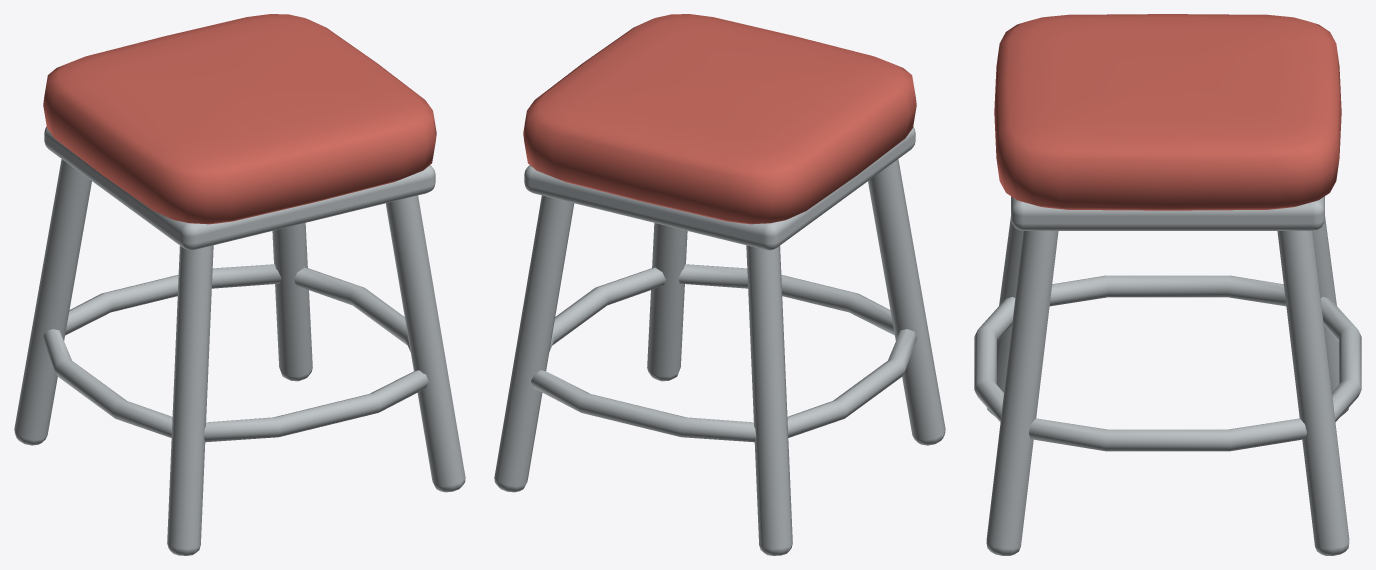
The model's file is cushion_stool.glb.
3 views of the same model, side by side, from view 1: azimuth 30°, elevation 25°; view 2: azimuth 150°, elevation 25°; view 3: azimuth 270°, elevation 25° (orthographic). The views are drawn at different scales.
Visible parts, largest first — view 1: cushion_stool_mesh; view 2: cushion_stool_mesh; view 3: cushion_stool_mesh.
Boxes of the visible parts, left/top/right/bottom form: cushion_stool_mesh: left=14, top=14, right=465, bottom=555; cushion_stool_mesh: left=494, top=14, right=945, bottom=555; cushion_stool_mesh: left=974, top=14, right=1361, bottom=555.
Size of the model in its own units: 0.4684 by 0.5464 by 0.4684.
